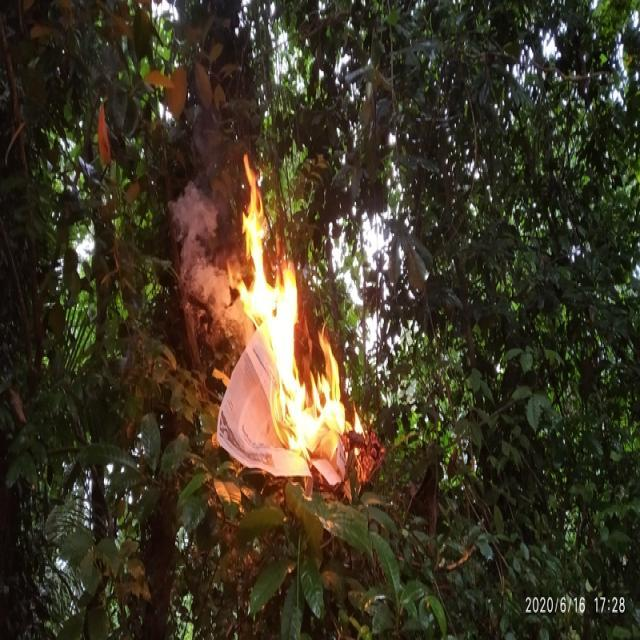Fire: (239, 152, 345, 452)
